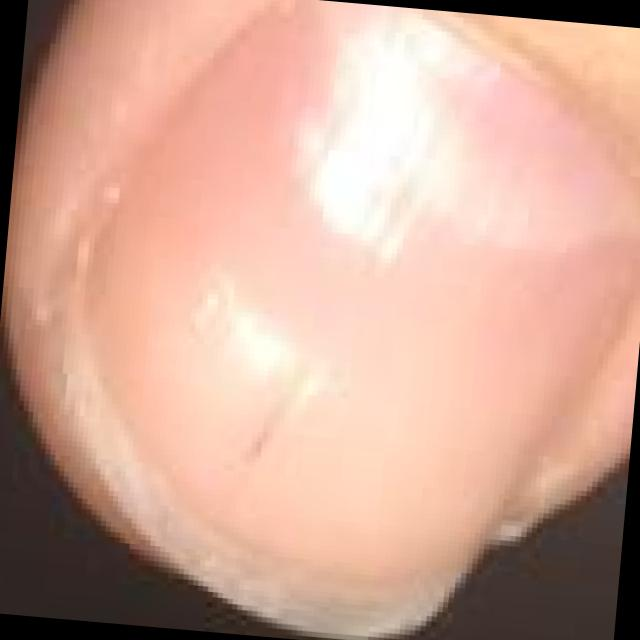Nail: (56, 1, 640, 637)
